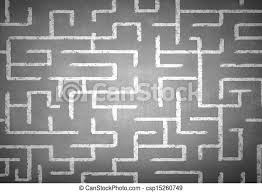maze: (1, 1, 261, 182)
